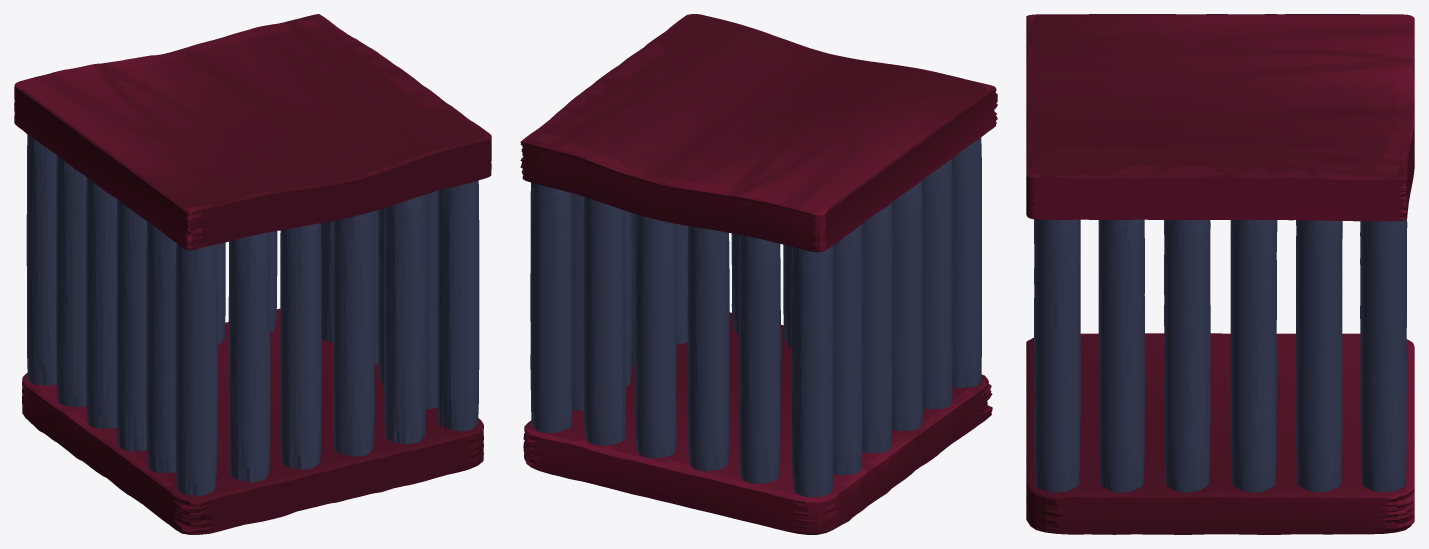
3 views of the same model, side by side, from view 1: azimuth 30°, elevation 25°; view 2: azimuth 150°, elevation 25°; view 3: azimuth 270°, elevation 25° (orthographic). The views are drawn at different scales.
Parts seen in each view (by area): view 1: Top; view 2: Top; view 3: Top.
Boxes of the visible parts, x1=… form: Top: x1=14, y1=14, x2=491, y2=534; Top: x1=520, y1=14, x2=997, y2=534; Top: x1=1026, y1=14, x2=1414, y2=534.
Bounding box in the file's own units: 200 × 205 × 200.
2 materials, 2 textured.
